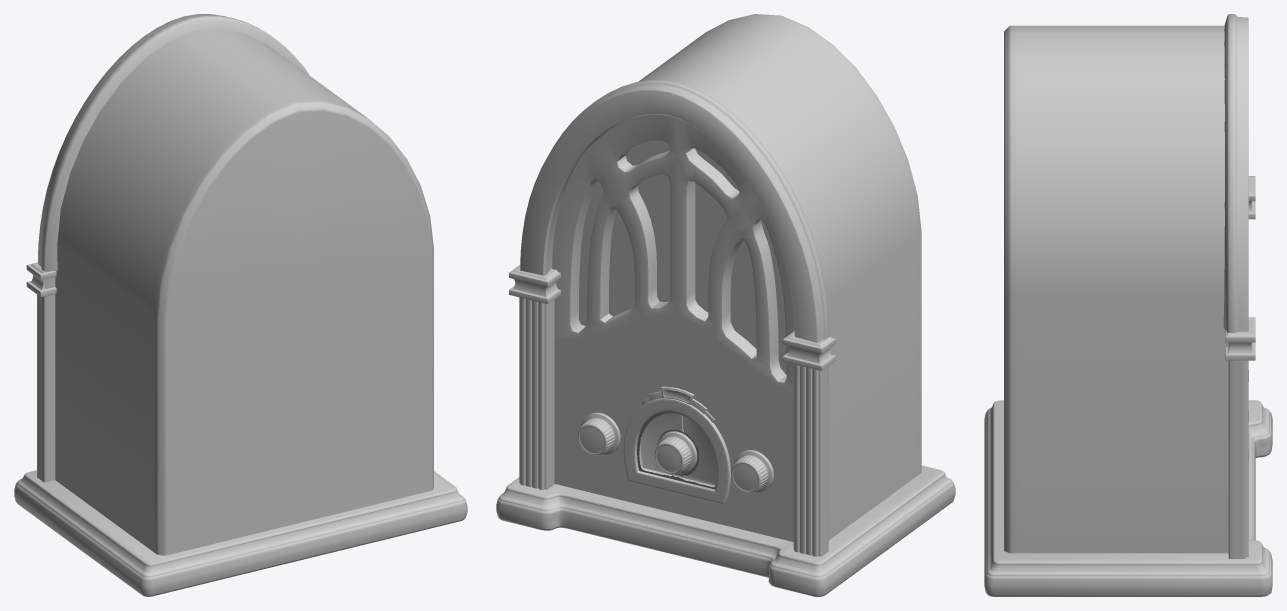
The model's file is Radio01.obj.
The picture shows the model from 3 angles, left to right: view 1: azimuth 30°, elevation 25°; view 2: azimuth 150°, elevation 25°; view 3: azimuth 270°, elevation 25°; orthographic projection. The views are drawn at different scales.
Parts seen in each view (by area): view 1: Radio01; view 2: Radio01; view 3: Radio01.
Boxes of the visible parts, x1,y1,x2,y2 form: Radio01: (14,14,467,596); Radio01: (496,14,955,596); Radio01: (984,14,1272,596).
Bounding box in the file's own units: 0.3915 × 0.5239 × 0.28.
